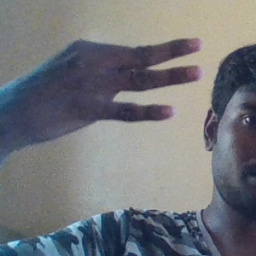K: (12, 33, 206, 138)
